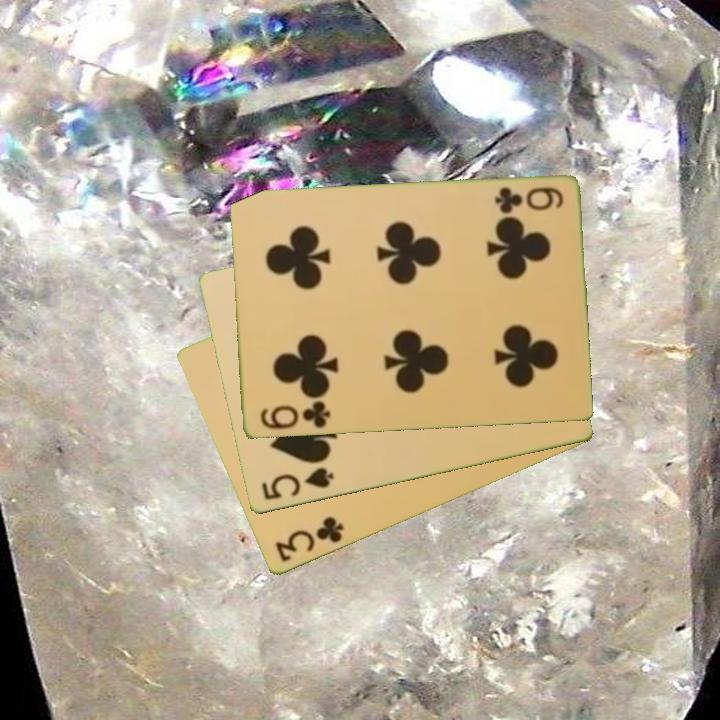3c: (271, 513, 347, 566)
5s: (257, 464, 337, 504)
6c: (256, 398, 333, 432), (490, 184, 566, 216)
